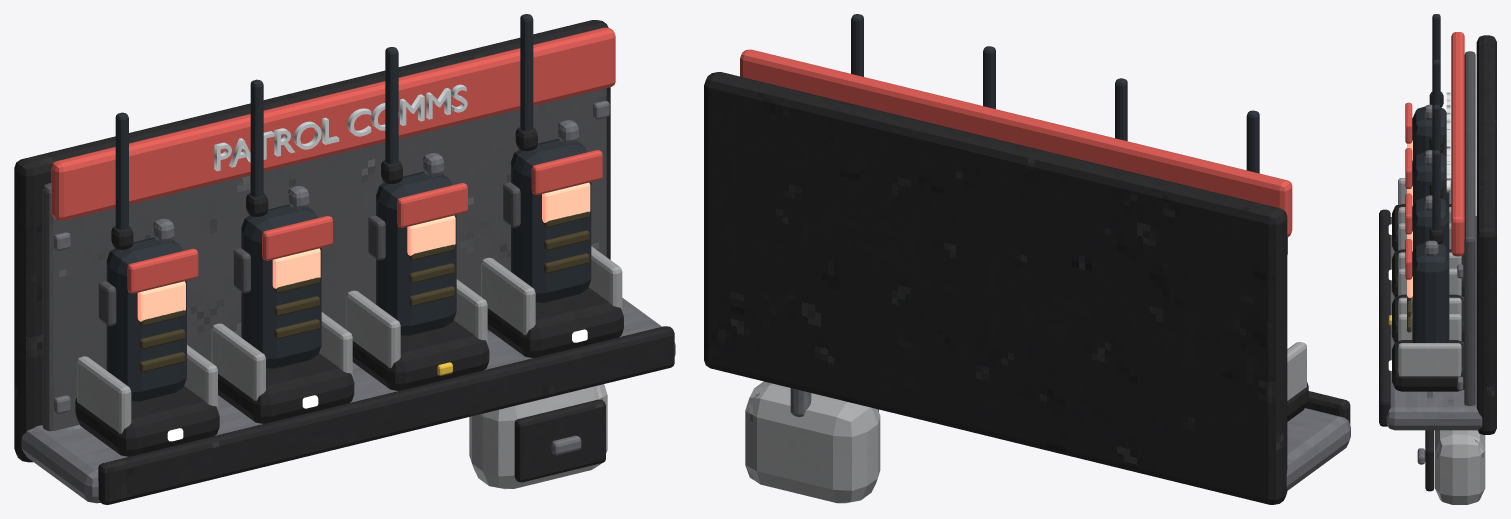
The model's file is decor_sec_radio_charger.glb.
3 views of the same model, side by side, from view 1: azimuth 30°, elevation 25°; view 2: azimuth 150°, elevation 25°; view 3: azimuth 270°, elevation 25° (orthographic). The views are drawn at different scales.
Visible parts, largest first — view 1: DEC_SecRadioCharger__Back_Face, DEC_SecRadioCharger__Header, DEC_SecRadioCharger__Shelf_Front, DEC_SecRadioCharger__Mount_Back, DEC_SecRadioCharger__Dock_Shelf, DEC_SecRadioCharger__Radio_Body_2, DEC_SecRadioCharger__Radio_Body_3, DEC_SecRadioCharger__Radio_Body_1, DEC_SecRadioCharger__Radio_Body_0, DEC_SecRadioCharger__Fuse_Panel, DEC_SecRadioCharger__Charging_Base_0, DEC_SecRadioCharger__Charging_Base_2 (+28 smaller); view 2: DEC_SecRadioCharger__Mount_Back, DEC_SecRadioCharger__Header, DEC_SecRadioCharger__Fused_Supply, DEC_SecRadioCharger__Dock_Shelf, DEC_SecRadioCharger__Dock_Guide_L_0, DEC_SecRadioCharger__Radio_Antenna_0, DEC_SecRadioCharger__Shelf_Front, DEC_SecRadioCharger__Radio_Antenna_1, DEC_SecRadioCharger__Radio_Antenna_2, DEC_SecRadioCharger__Radio_Antenna_3; view 3: DEC_SecRadioCharger__Mount_Back, DEC_SecRadioCharger__Back_Face, DEC_SecRadioCharger__Dock_Shelf, DEC_SecRadioCharger__Fused_Supply, DEC_SecRadioCharger__Radio_Body_3, DEC_SecRadioCharger__Header, DEC_SecRadioCharger__Shelf_Front, DEC_SecRadioCharger__Dock_Guide_R_3, DEC_SecRadioCharger__Charging_Base_3, DEC_SecRadioCharger__Radio_Body_2, DEC_SecRadioCharger__Radio_Body_1, DEC_SecRadioCharger__Radio_Body_0 (+22 smaller).
Boxes of the visible parts, box(x1,y1,x2,y2) form: DEC_SecRadioCharger__Back_Face: box(42, 88, 606, 431); DEC_SecRadioCharger__Header: box(51, 27, 615, 220); DEC_SecRadioCharger__Shelf_Front: box(98, 326, 674, 504); DEC_SecRadioCharger__Mount_Back: box(14, 20, 610, 462); DEC_SecRadioCharger__Dock_Shelf: box(21, 298, 675, 503); DEC_SecRadioCharger__Radio_Body_2: box(376, 171, 456, 335); DEC_SecRadioCharger__Radio_Body_3: box(511, 138, 591, 302); DEC_SecRadioCharger__Radio_Body_1: box(241, 204, 321, 368); DEC_SecRadioCharger__Radio_Body_0: box(106, 237, 186, 401); DEC_SecRadioCharger__Fuse_Panel: box(514, 399, 605, 482); DEC_SecRadioCharger__Charging_Base_0: box(75, 386, 219, 456); DEC_SecRadioCharger__Charging_Base_2: box(352, 320, 489, 390); DEC_SecRadioCharger__Mount_Back: box(704, 72, 1287, 504); DEC_SecRadioCharger__Header: box(740, 49, 1292, 237); DEC_SecRadioCharger__Fused_Supply: box(745, 381, 880, 503); DEC_SecRadioCharger__Dock_Shelf: box(1286, 408, 1350, 490); DEC_SecRadioCharger__Dock_Guide_L_0: box(1287, 342, 1306, 400); DEC_SecRadioCharger__Radio_Antenna_0: box(1246, 110, 1259, 173); DEC_SecRadioCharger__Shelf_Front: box(1305, 391, 1350, 424); DEC_SecRadioCharger__Radio_Antenna_1: box(1115, 78, 1127, 141); DEC_SecRadioCharger__Radio_Antenna_2: box(983, 46, 995, 108); DEC_SecRadioCharger__Radio_Antenna_3: box(851, 14, 863, 76); DEC_SecRadioCharger__Mount_Back: box(1476, 35, 1496, 434); DEC_SecRadioCharger__Back_Face: box(1464, 51, 1475, 405); DEC_SecRadioCharger__Dock_Shelf: box(1386, 216, 1482, 430); DEC_SecRadioCharger__Fused_Supply: box(1435, 430, 1485, 504); DEC_SecRadioCharger__Radio_Body_3: box(1412, 242, 1449, 342); DEC_SecRadioCharger__Header: box(1451, 32, 1464, 256); DEC_SecRadioCharger__Shelf_Front: box(1379, 209, 1390, 426); DEC_SecRadioCharger__Dock_Guide_R_3: box(1398, 343, 1461, 376); DEC_SecRadioCharger__Charging_Base_3: box(1392, 340, 1464, 391); DEC_SecRadioCharger__Radio_Body_2: box(1412, 197, 1449, 253); DEC_SecRadioCharger__Radio_Body_1: box(1412, 151, 1449, 208); DEC_SecRadioCharger__Radio_Body_0: box(1412, 106, 1446, 163).
Size of the model in its own units: 1.4 by 1.09 by 0.3515.
Materials: 11 (4 with a texture image).
